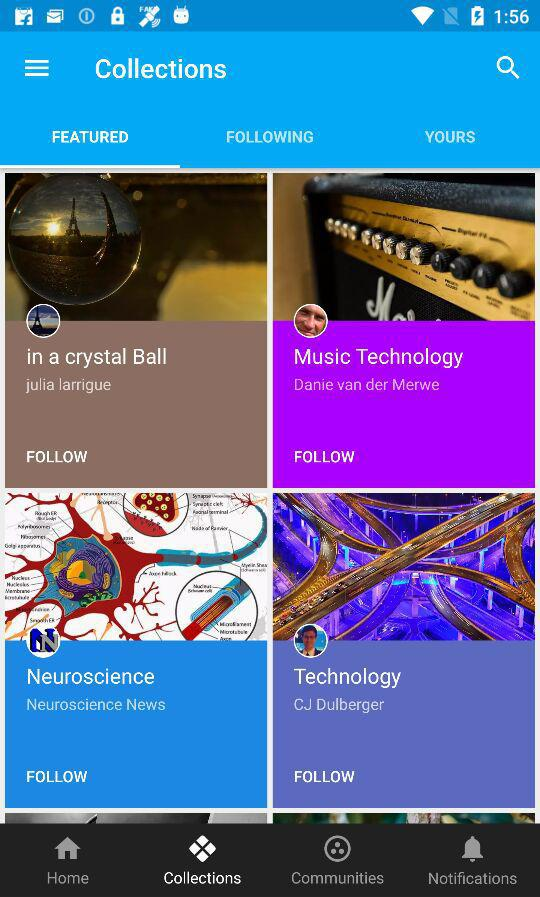Bottom_Navigation: (1, 824, 540, 897)
Icon: (461, 835, 485, 864), (54, 836, 82, 860), (496, 56, 520, 81), (24, 59, 51, 79)
Image: (5, 493, 268, 641), (6, 174, 268, 322), (274, 174, 535, 322), (273, 494, 535, 641), (292, 623, 328, 659), (294, 304, 329, 339), (27, 623, 61, 658), (27, 304, 61, 339), (188, 834, 218, 864), (323, 834, 352, 863)
Text: (294, 347, 465, 370), (27, 347, 168, 370), (95, 57, 228, 81), (292, 667, 405, 690), (28, 667, 156, 686), (294, 377, 441, 392), (26, 697, 168, 712), (293, 695, 388, 714), (25, 377, 113, 396), (291, 871, 385, 886), (428, 871, 518, 886), (226, 130, 315, 145), (163, 870, 243, 886), (52, 130, 130, 145), (294, 770, 356, 784), (27, 770, 89, 784), (294, 450, 356, 464), (27, 450, 89, 464), (424, 130, 476, 145), (48, 871, 91, 886)
UpperTaskBar: (1, 1, 540, 33)
